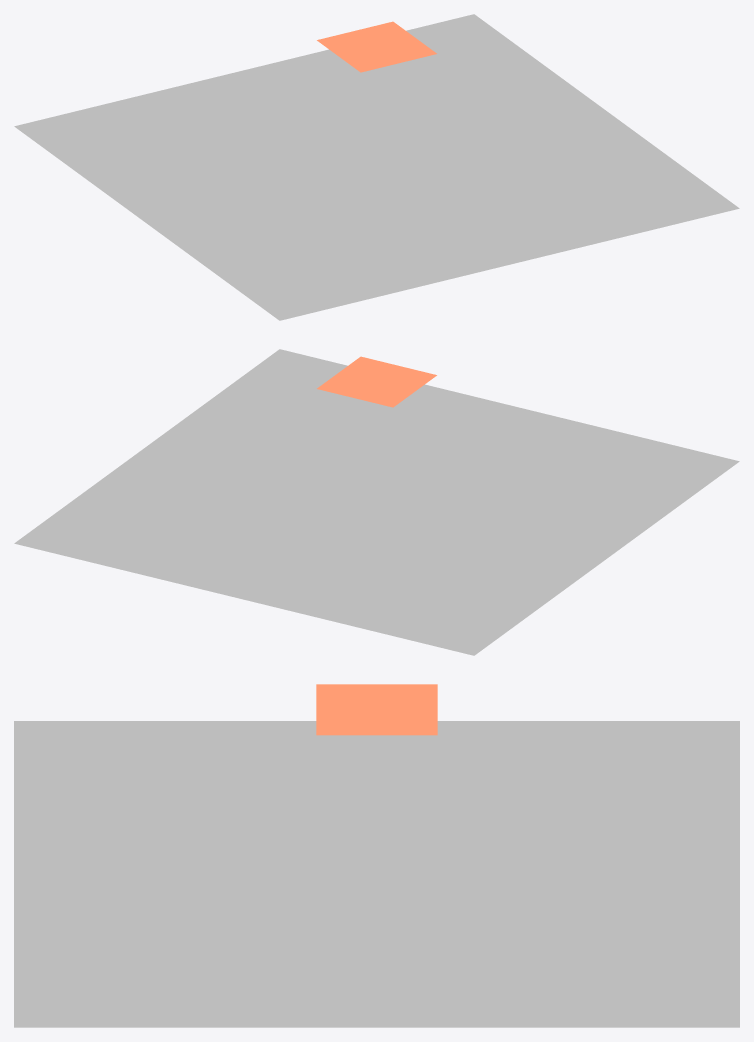
The model's file is emissive-mesh-stage.gltf.
3 renders of one model, top to bottom at view 1: azimuth 30°, elevation 25°; view 2: azimuth 150°, elevation 25°; view 3: azimuth 270°, elevation 25°, orthographic. The views are drawn at different scales.
Visible parts, largest first — view 1: Floor and emissive panel; view 2: Floor and emissive panel; view 3: Floor and emissive panel.
Boxes of the visible parts, x1,y1,x2,y2 form: Floor and emissive panel: (14,14,739,320); Floor and emissive panel: (14,349,739,655); Floor and emissive panel: (14,684,739,1027).
Size of the model in its own units: 12 by 3 by 12.
